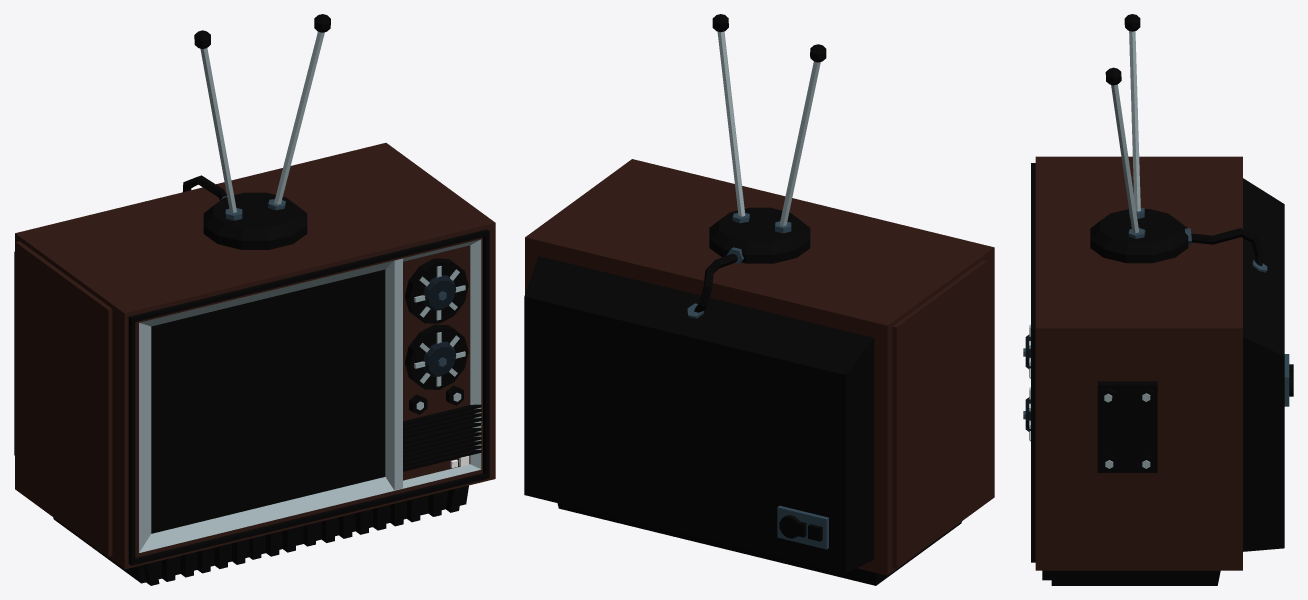
The model's file is tv_close2.gltf.
The picture shows the model from 3 angles, left to right: view 1: azimuth 30°, elevation 25°; view 2: azimuth 150°, elevation 25°; view 3: azimuth 270°, elevation 25°; orthographic projection. The views are drawn at different scales.
Visible parts, largest first — view 1: group926842016, group1507732589, group1117102901, group310550301, group270195480, group2011111715, group993591691, group2019339649, group2017288429, group867327657, group1800594314, group162753495 (+2 smaller); view 2: group466038209, group926842016, group1507732589, group310550301, group867327657, group2067760130, group1393598046, group1277734885, group1247399666; view 3: group926842016, group466038209, group1476588037, group310550301, group867327657, group1393598046, group162753495, group2067760130, group1247399666, group2019339649.
Part boxes in pixels (left/top/right/bottom): group926842016: left=15, top=143, right=495, bottom=569; group1507732589: left=15, top=241, right=112, bottom=556; group1117102901: left=403, top=245, right=470, bottom=480; group310550301: left=203, top=192, right=307, bottom=249; group270195480: left=385, top=258, right=402, bottom=490; group2011111715: left=405, top=258, right=468, bottom=323; group993591691: left=405, top=324, right=468, bottom=389; group2019339649: left=128, top=230, right=489, bottom=322; group2017288429: left=128, top=473, right=489, bottom=565; group867327657: left=53, top=485, right=468, bottom=583; group1800594314: left=128, top=316, right=135, bottom=565; group162753495: left=483, top=229, right=489, bottom=474; group466038209: left=524, top=256, right=874, bottom=573; group926842016: left=525, top=159, right=994, bottom=575; group1507732589: left=892, top=260, right=986, bottom=568; group310550301: left=709, top=207, right=810, bottom=263; group867327657: left=557, top=503, right=961, bottom=585; group2067760130: left=717, top=31, right=745, bottom=216; group1393598046: left=779, top=61, right=820, bottom=226; group1277734885: left=777, top=505, right=828, bottom=549; group1247399666: left=694, top=254, right=737, bottom=312; group926842016: left=1035, top=156, right=1242, bottom=570; group466038209: left=1243, top=178, right=1284, bottom=551; group1476588037: left=1097, top=381, right=1157, bottom=472; group310550301: left=1090, top=209, right=1188, bottom=263; group867327657: left=1051, top=570, right=1220, bottom=585; group1393598046: left=1129, top=31, right=1140, bottom=211; group162753495: left=1031, top=326, right=1035, bottom=562; group2067760130: left=1111, top=84, right=1138, bottom=233; group1247399666: left=1191, top=228, right=1263, bottom=266; group2019339649: left=1031, top=165, right=1035, bottom=326.
Bounding box in the file's own units: 0.829 × 1 × 0.5238.
